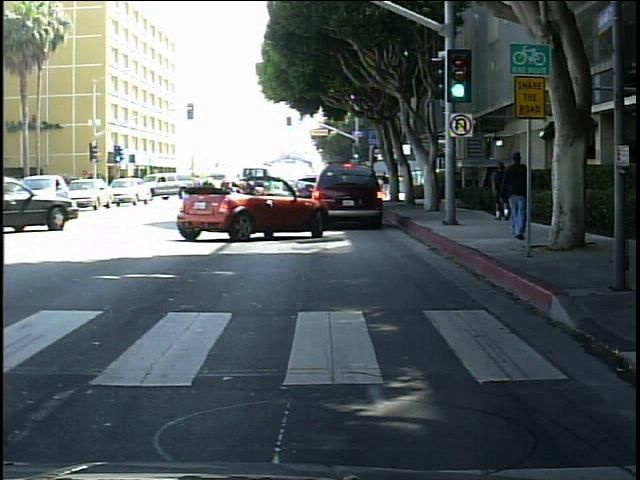person: (499, 140, 531, 240), (491, 156, 510, 222), (412, 165, 425, 186)
